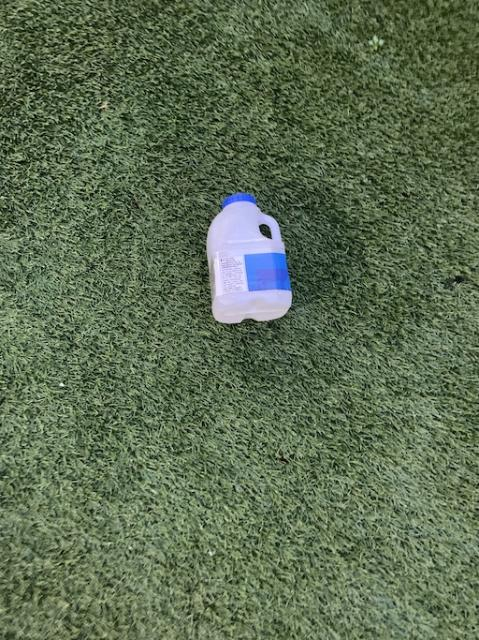plastic: (206, 192, 290, 321)
